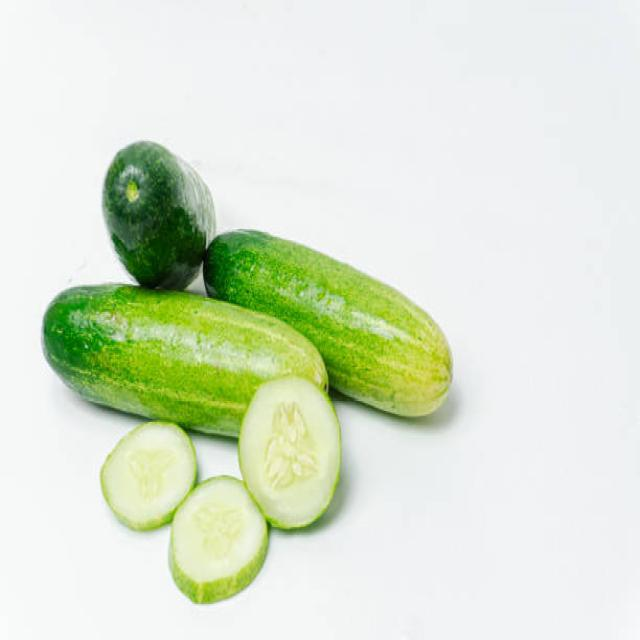cucumber: (203, 229, 452, 419), (39, 281, 329, 444), (98, 138, 216, 288)
